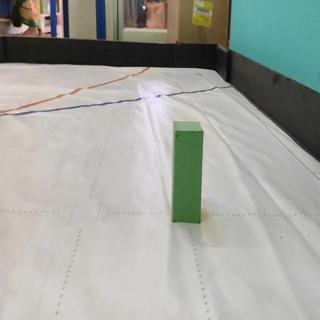greenbox: (172, 118, 205, 224)
